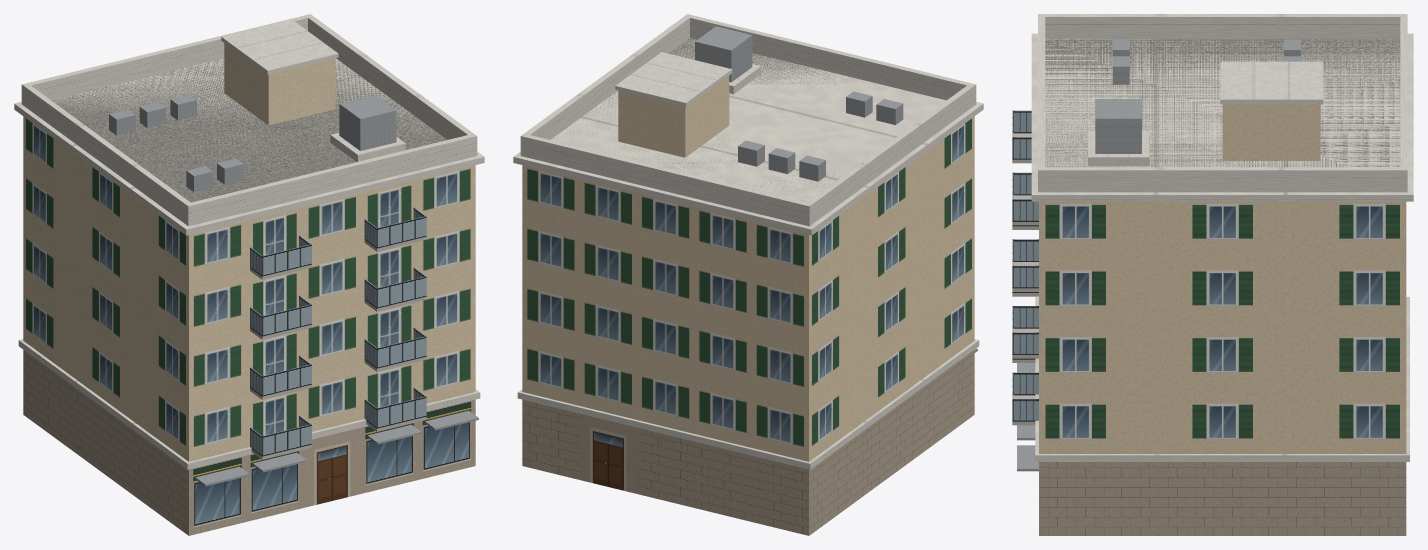
File: EU_ResidencialAlameda_L1_2x3.fbx
3 views of the same model, side by side, from view 1: azimuth 30°, elevation 25°; view 2: azimuth 150°, elevation 25°; view 3: azimuth 270°, elevation 25° (orthographic). The views are drawn at different scales.
Visible parts, largest first — view 1: EU_ResidencialAlameda_L1_2x3; view 2: EU_ResidencialAlameda_L1_2x3; view 3: EU_ResidencialAlameda_L1_2x3.
Part boxes in pixels (x1,y1,x2,y2): EU_ResidencialAlameda_L1_2x3: (14, 14, 484, 535); EU_ResidencialAlameda_L1_2x3: (513, 14, 983, 535); EU_ResidencialAlameda_L1_2x3: (1012, 14, 1413, 535).
Bounding box in the file's own units: 15.6 × 18.3 × 16.4.
Materials: 1 (1 with a texture image).
